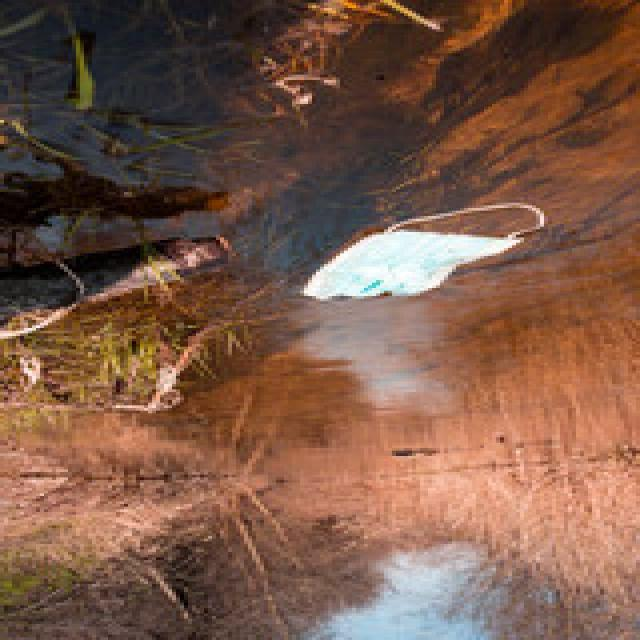Trash: (300, 201, 552, 298)
